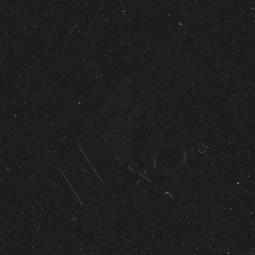proba_2: (50, 78, 243, 204)
